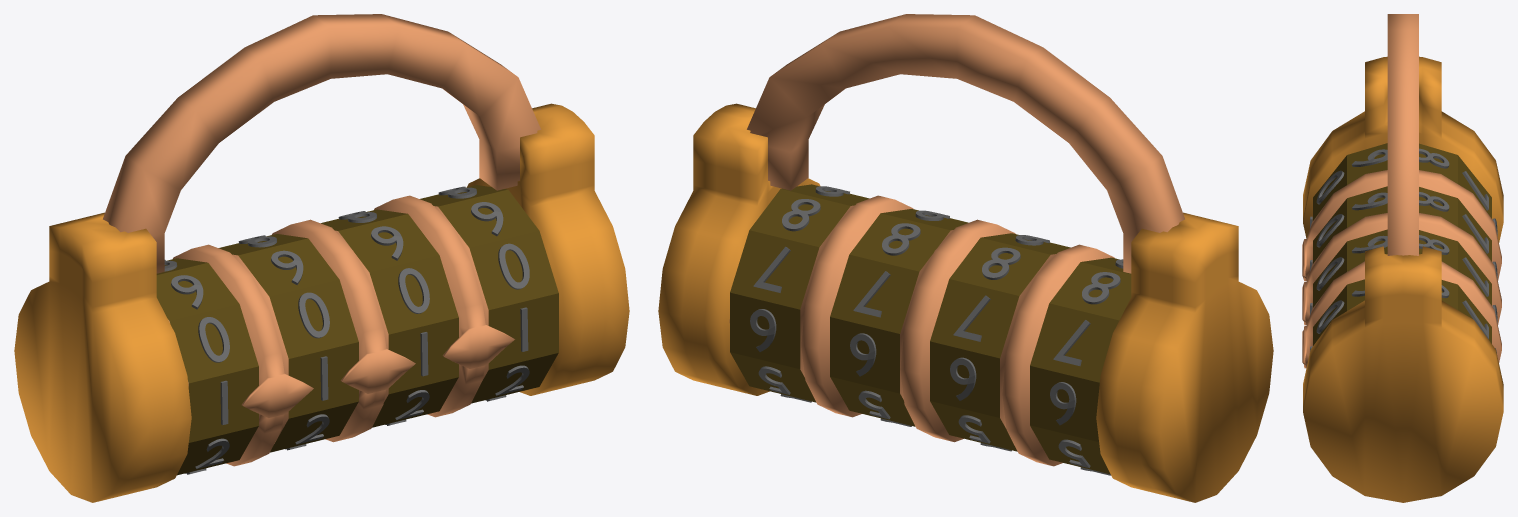
File: lock.gltf
3 views of the same model, side by side, from view 1: azimuth 30°, elevation 25°; view 2: azimuth 150°, elevation 25°; view 3: azimuth 270°, elevation 25° (orthographic). The views are drawn at different scales.
Parts seen in each view (by area): view 1: Apparatus_Head, Lock, Base, Apparatus_End, Keys.001, Keys.003, Keys.002, Keys; view 2: Apparatus_Head, Lock, Base, Apparatus_End, Keys.003, Keys.001, Keys.002, Keys; view 3: Apparatus_End, Base, Apparatus_Head, Lock, Keys, Keys.003, Keys.002, Keys.001.
Part boxes in pixels (box(x1,y1,x2,y2)): Apparatus_Head: box(14, 212, 191, 502); Lock: box(103, 14, 540, 273); Base: box(168, 195, 514, 466); Apparatus_End: box(467, 103, 629, 395); Keys.001: box(420, 185, 558, 403); Keys.003: box(218, 234, 358, 452); Keys.002: box(321, 209, 458, 427); Keys: box(156, 258, 258, 475); Apparatus_Head: box(1096, 212, 1273, 502); Lock: box(747, 14, 1184, 273); Base: box(729, 195, 1114, 466); Apparatus_End: box(658, 103, 820, 395); Keys.003: box(930, 233, 1070, 451); Keys.001: box(730, 184, 869, 402); Keys.002: box(830, 209, 968, 426); Keys: box(1030, 257, 1131, 475); Apparatus_End: box(1303, 246, 1503, 502); Base: box(1302, 170, 1501, 368); Apparatus_Head: box(1303, 56, 1503, 242); Lock: box(1387, 14, 1418, 255); Keys: box(1310, 143, 1497, 236); Keys.003: box(1310, 186, 1497, 278); Keys.002: box(1310, 229, 1497, 322); Keys.001: box(1310, 279, 1496, 353).
Size of the model in its own units: 1632 by 1280 by 640.
